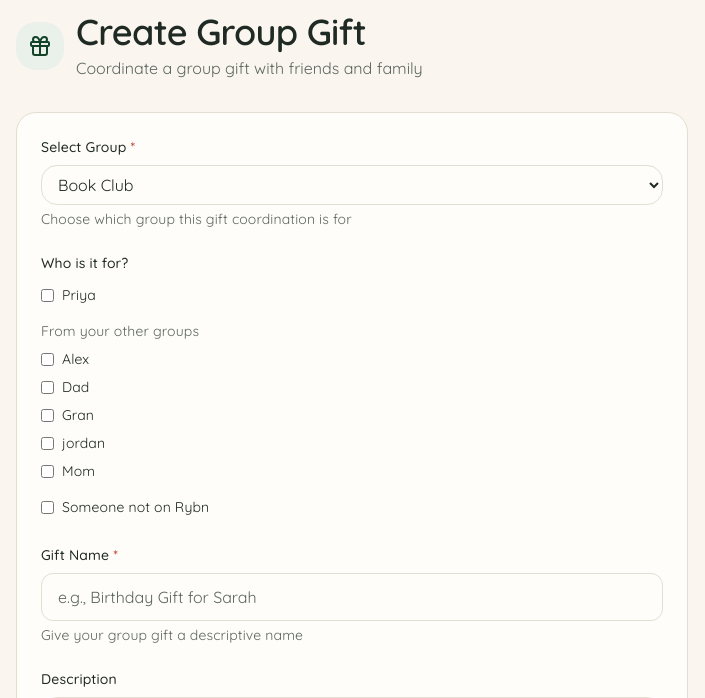
Test: the create page's Who is it for? › keeps a tick when the group is changed
expect the element "Who is it for?" is shown: met, box [41, 254, 209, 516]
Select "Rivera Family" in the dropdown: (352, 185) [41, 165, 663, 205]
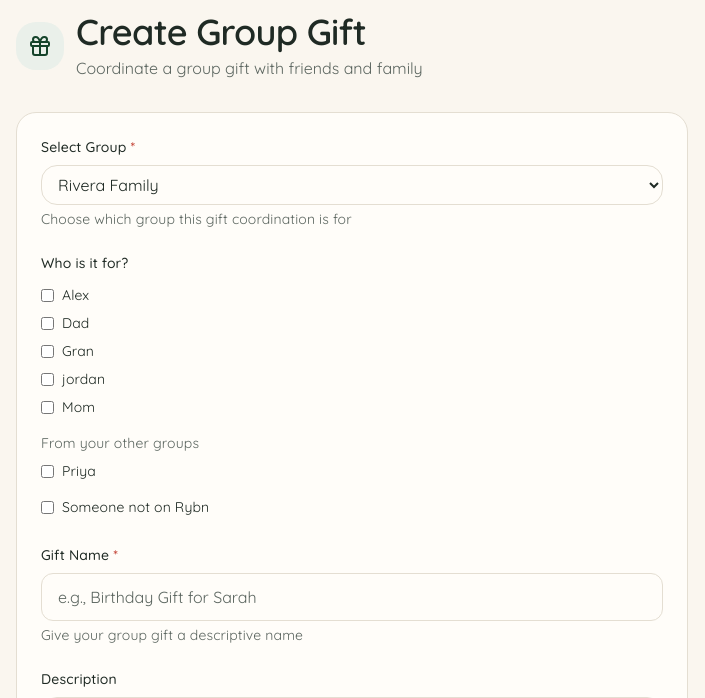
Click the checkbox labelled "Mom": (48, 407) [41, 400, 54, 414]
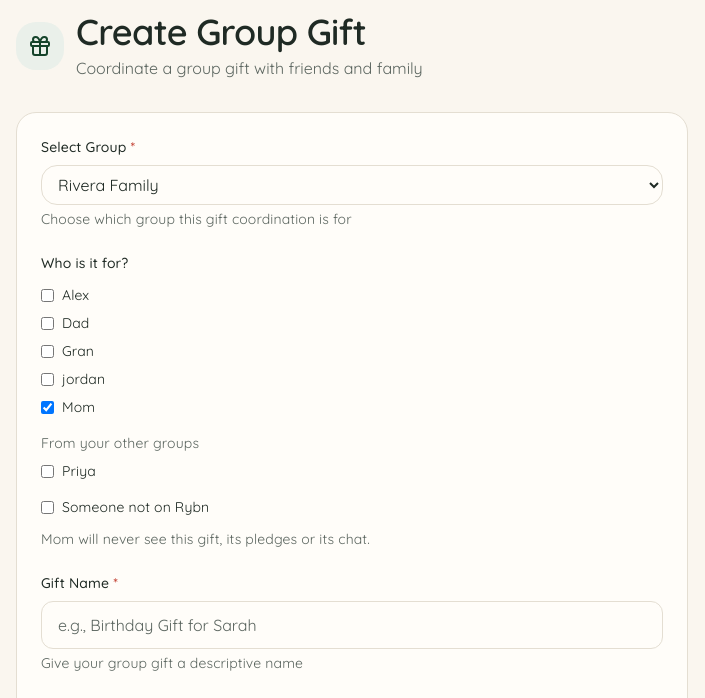
Select "Book Club" in the dropdown: (352, 185) [41, 165, 663, 205]
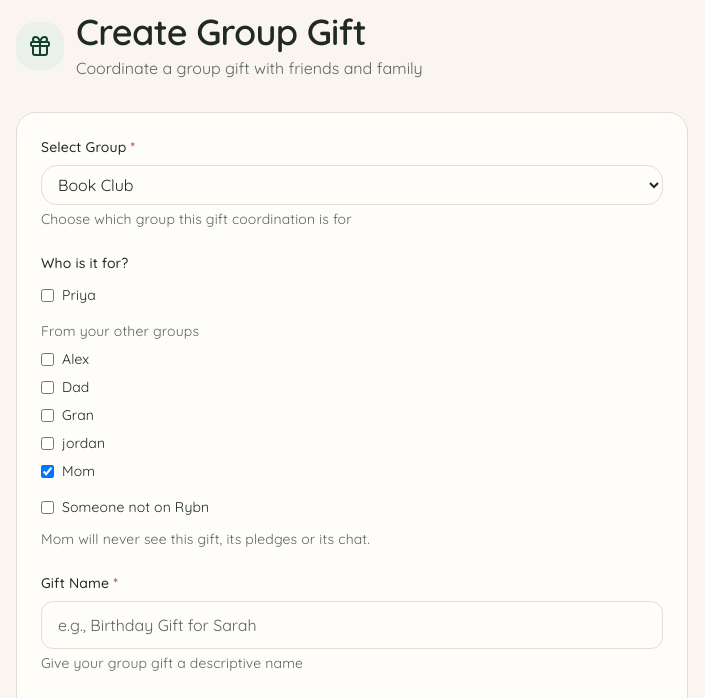
expect the checkbox labelled "Mom" is checked: met, box [41, 464, 54, 478]
